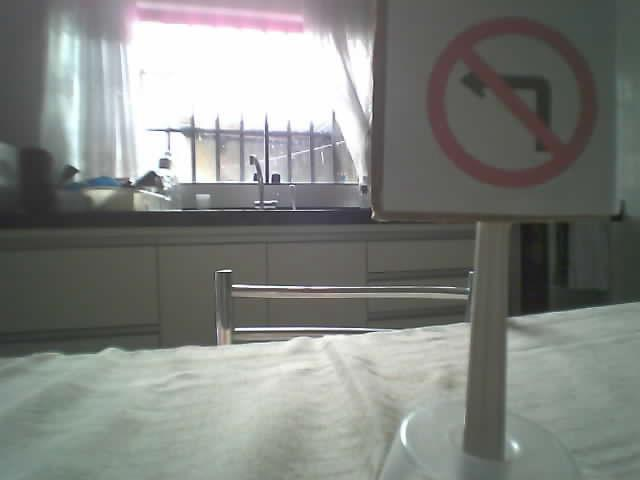R-4a_proibido-esquerda: (423, 16, 596, 186)
